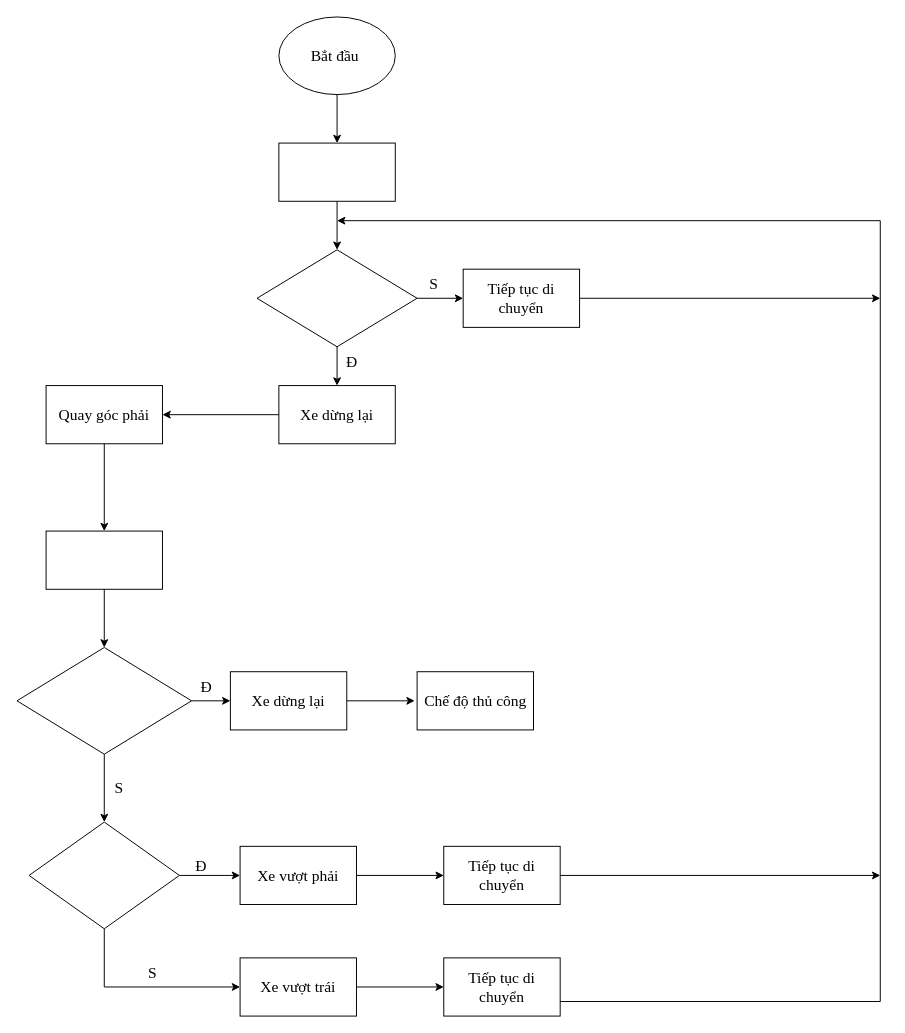
Image size: 905x1033. Some labels were removed from this diagram. Each missing label, with the centre of its shape:
2 khoảng cách đều <30: [104,700]
Khoảng cách phía trước nhỏ hơn 30: [336,298]
Khoảng cách phải >= trái: [103,875]
Quay góc trái: [103,559]
Đọc dữ liệu từ cảm biến: [336,171]
